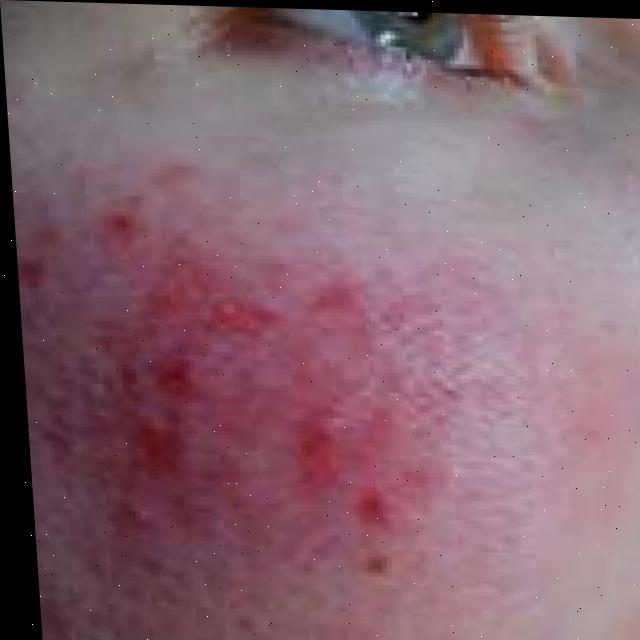Rosacea: (13, 194, 507, 580)
